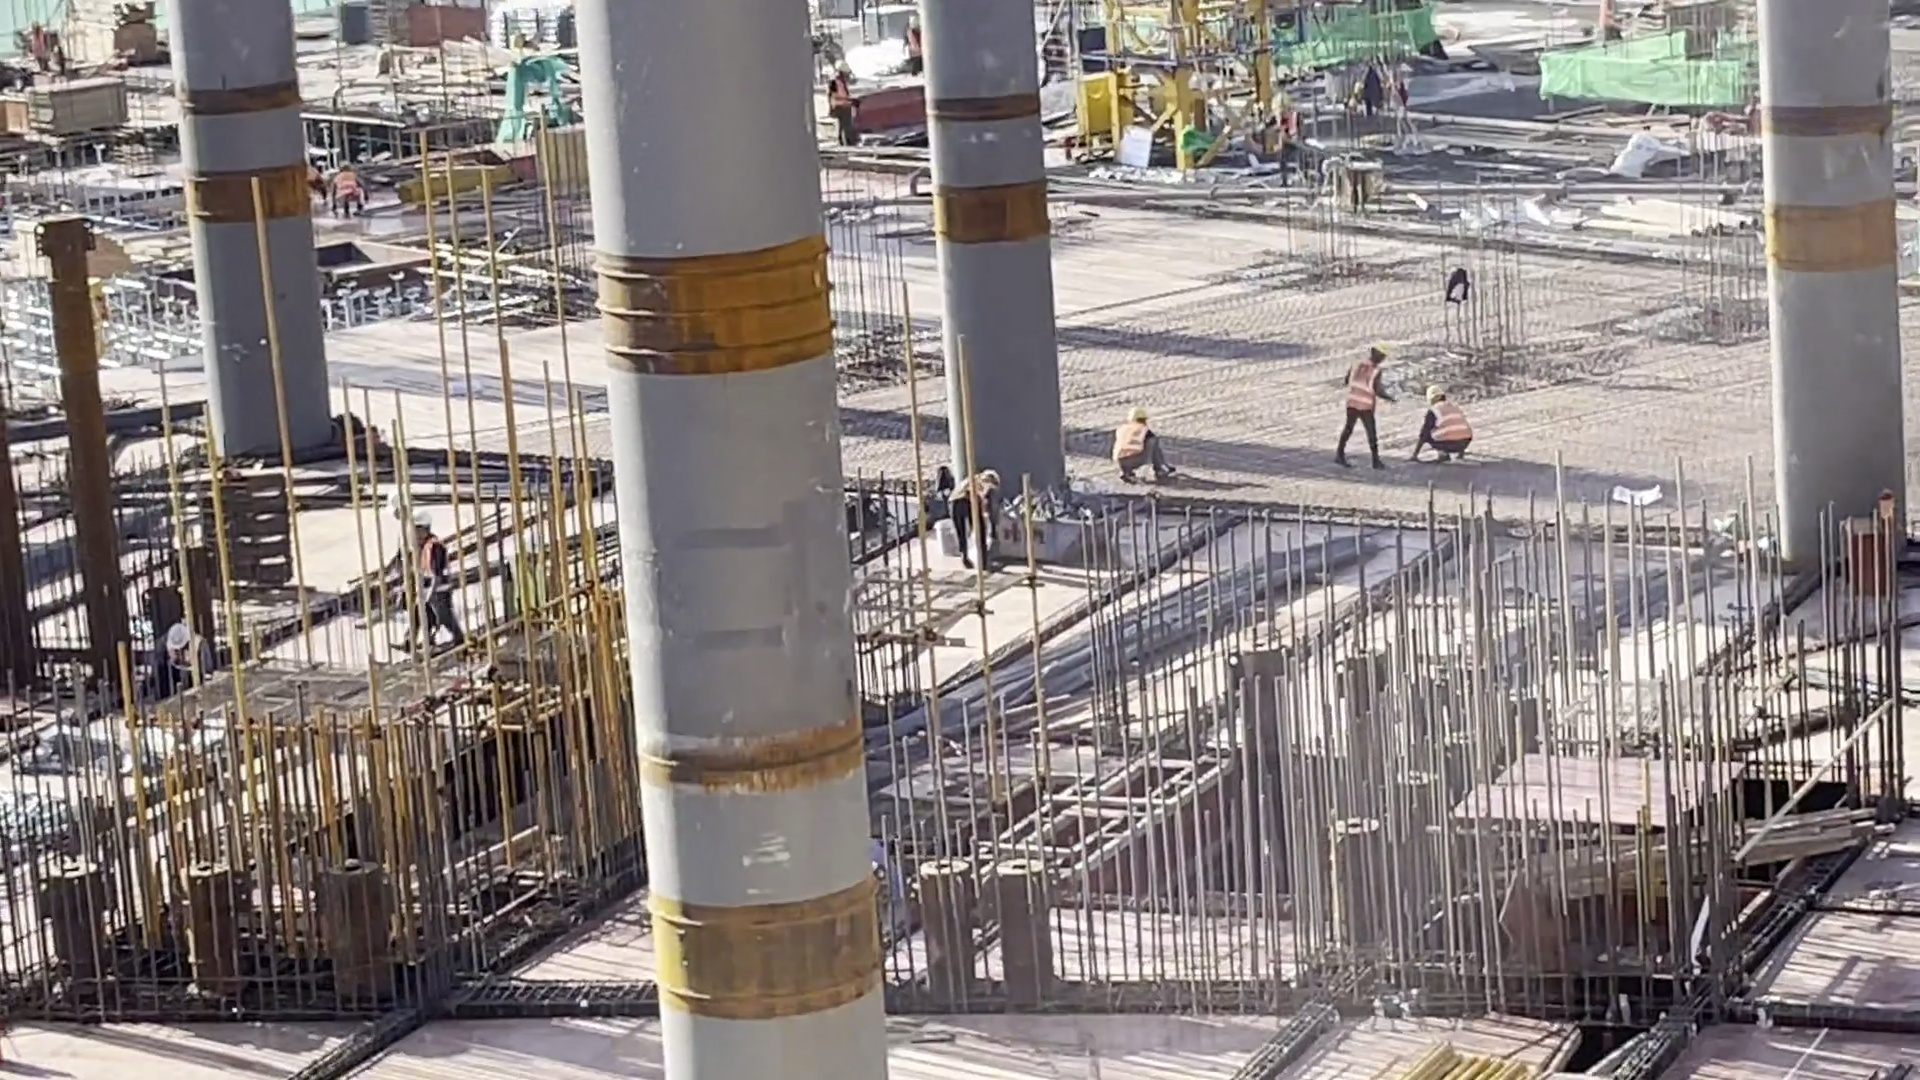helmet: (404, 507, 441, 534), (1367, 334, 1394, 361), (1426, 374, 1452, 397), (1272, 92, 1297, 115), (1126, 405, 1152, 423), (830, 57, 849, 76)
hopper: (978, 486, 1110, 576)
person: (385, 502, 460, 663), (1330, 335, 1403, 474), (929, 456, 1007, 576), (1414, 380, 1485, 483), (1260, 78, 1324, 190), (1096, 404, 1178, 485), (159, 619, 214, 701), (812, 56, 864, 142), (319, 149, 367, 222)
vest: (1341, 364, 1383, 418), (404, 546, 449, 596), (1433, 401, 1470, 448), (952, 471, 989, 512), (1111, 420, 1149, 460), (1278, 113, 1307, 146), (826, 78, 852, 107), (331, 176, 357, 193)
